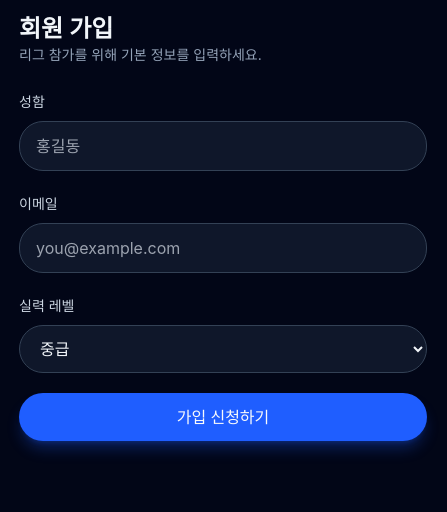
Test: SignupScreen › submits form and stores member data
Type "김선수" into the field with placeholder "홍길동" at (223, 146), box [19,121,427,171]
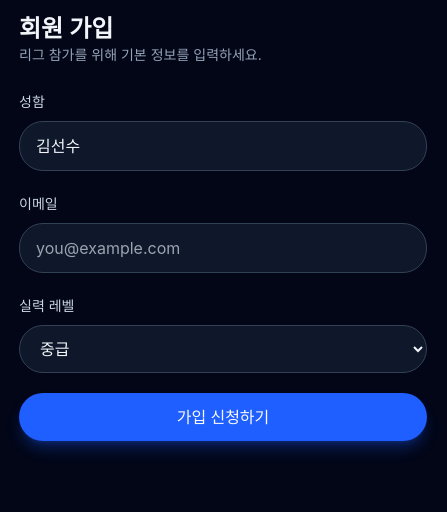
Type "player@example.com" into the field with placeholder "you@example.com" at (223, 248), box [19,223,427,273]
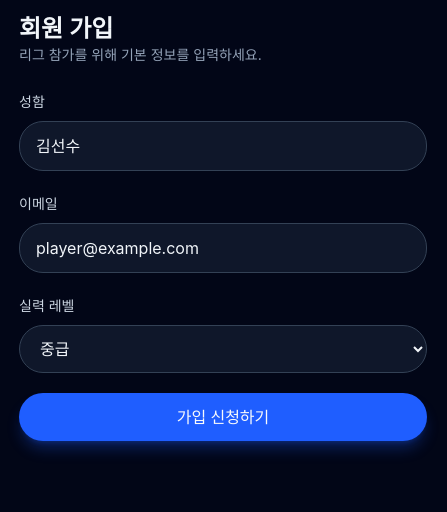
Click the button "가입 신청하기" at (223, 417), box [19,393,427,441]
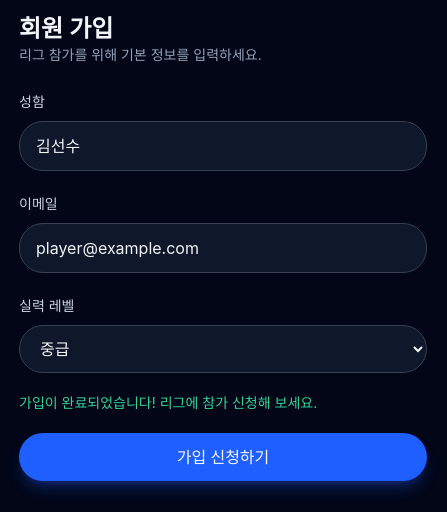
Check: the text "가입이 완료되었습니다! 리그에 참가 신청해 보세요." is shown, box [19,394,317,411]
